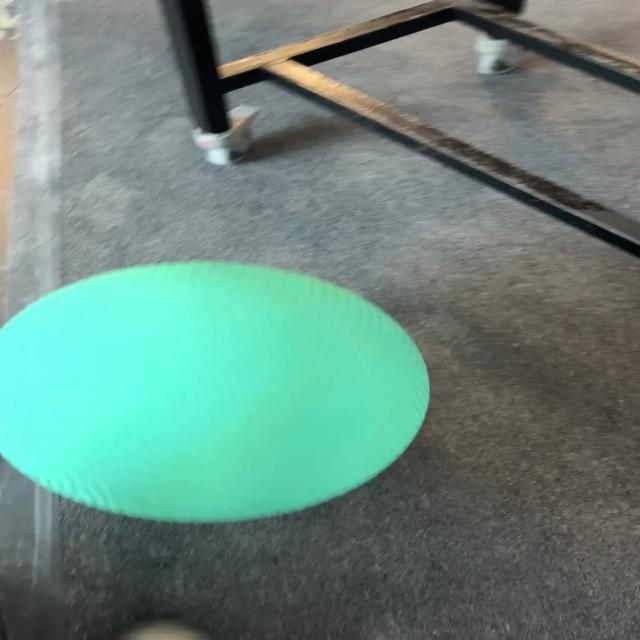Algae: (1, 259, 432, 524)
